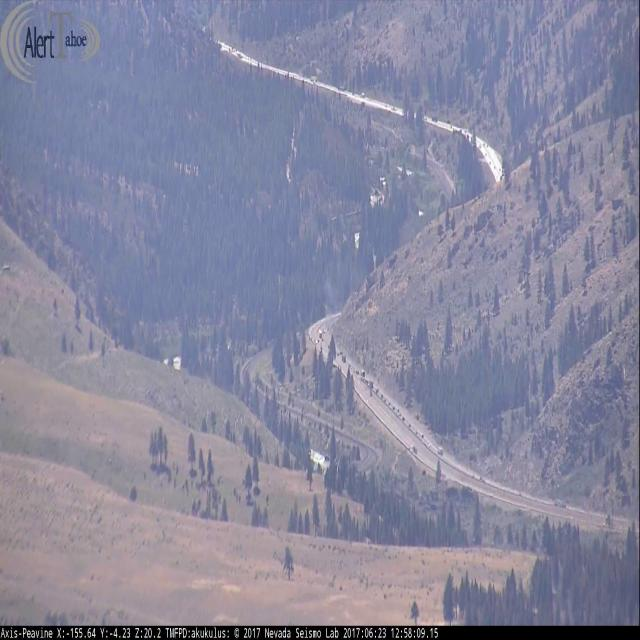smoke: (320, 258, 366, 331)
